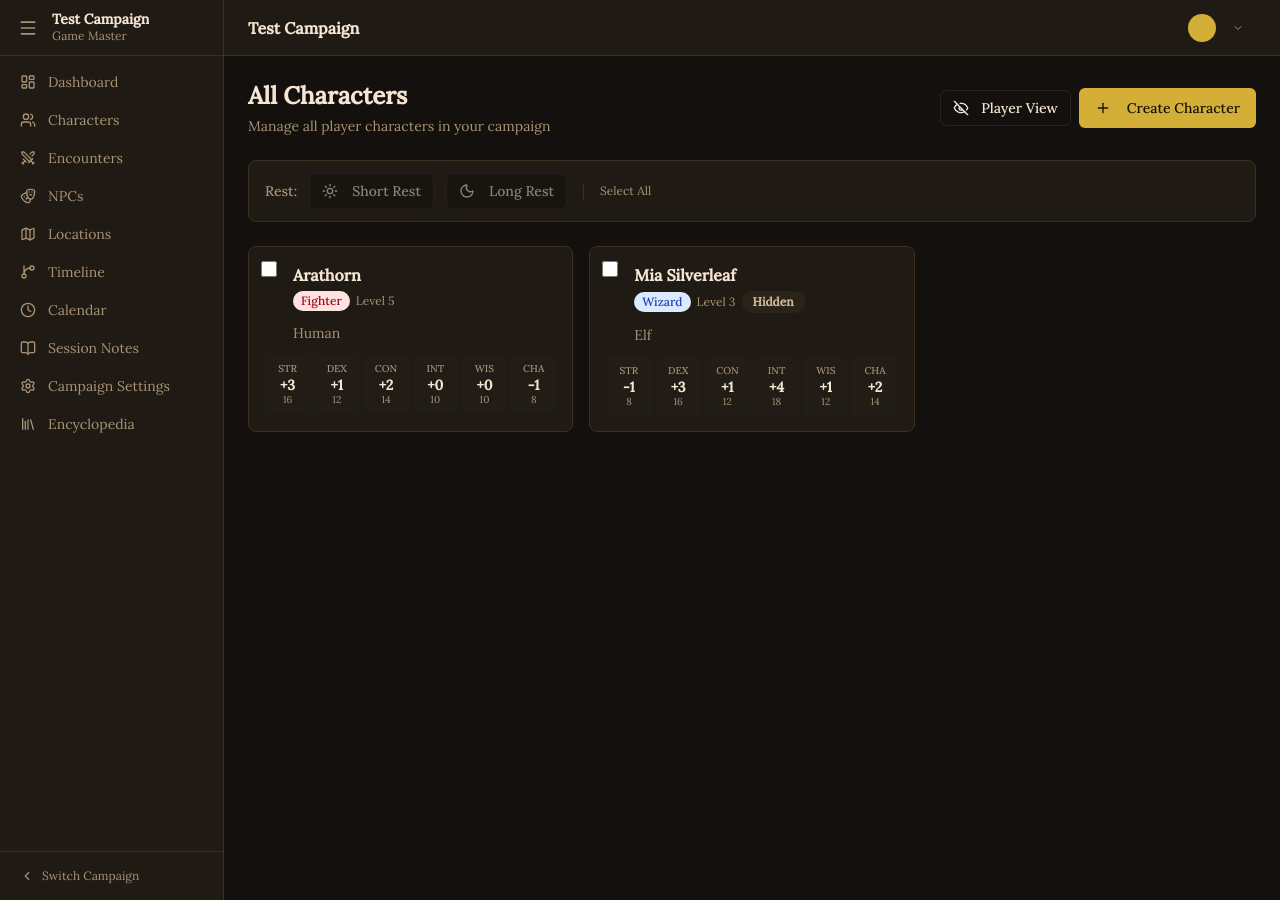
Test: CharacterList — rest buttons (GM view) › Select All selects all characters
Expected: the heading "Arathorn" is shown, [293,265,361,285]
What coordinates should you click on to do the following:
click the button with test id "select-all-btn"
I would click on:
 (626, 191)
Its box is [600,183,651,199].
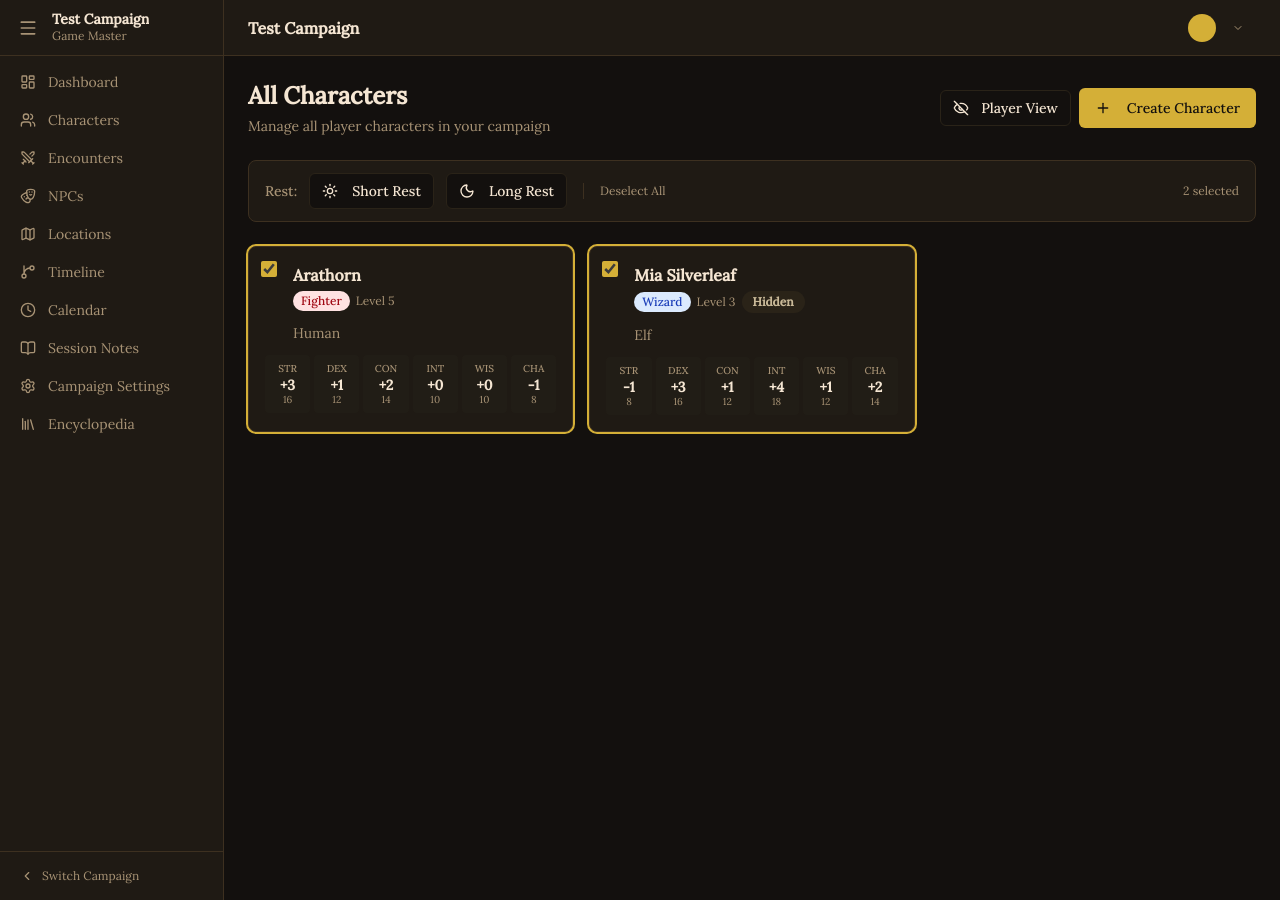
Result: the checkbox with test id "char-checkbox-1" is checked at [261,261,277,277]
Result: the checkbox with test id "char-checkbox-2" is checked at [602,261,618,277]
